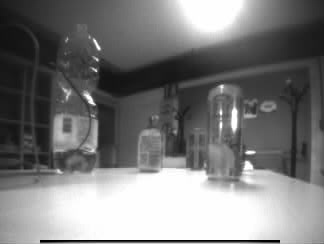Bottle: (52, 23, 101, 176)
Tin can: (205, 82, 245, 182), (136, 127, 164, 173), (185, 126, 206, 172)
